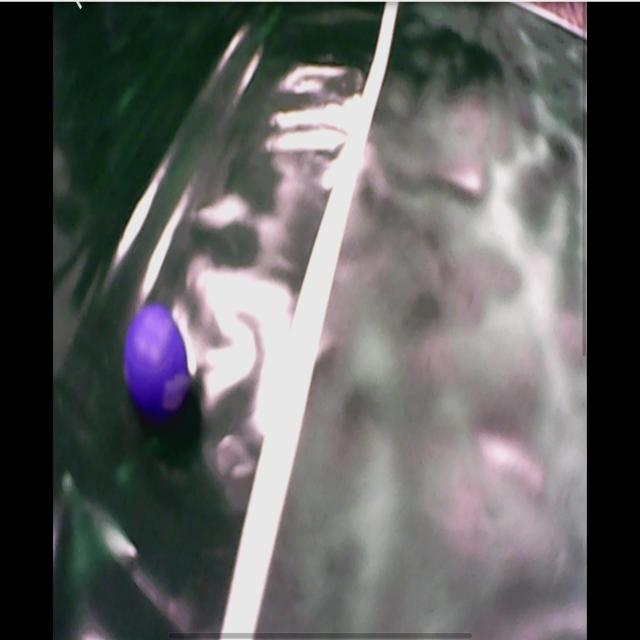ball: (124, 305, 189, 413)
